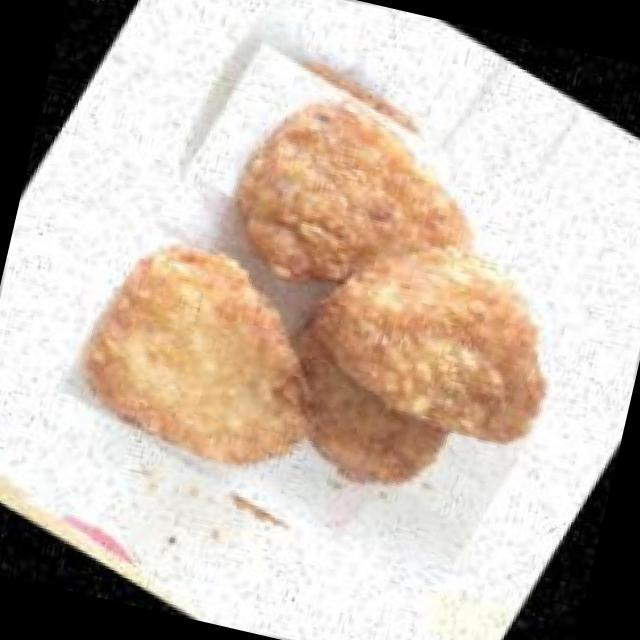triangle_hash_brown: (23, 2, 640, 640)
